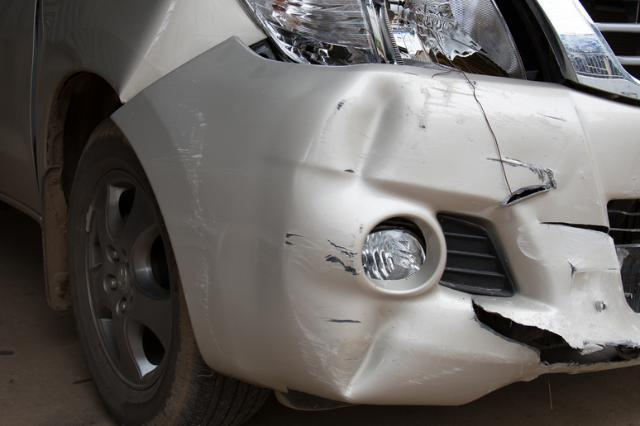Bumper: (178, 78, 624, 383)
